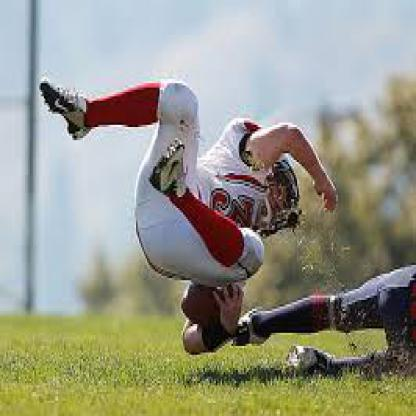Fall_Down: (38, 77, 338, 354)
